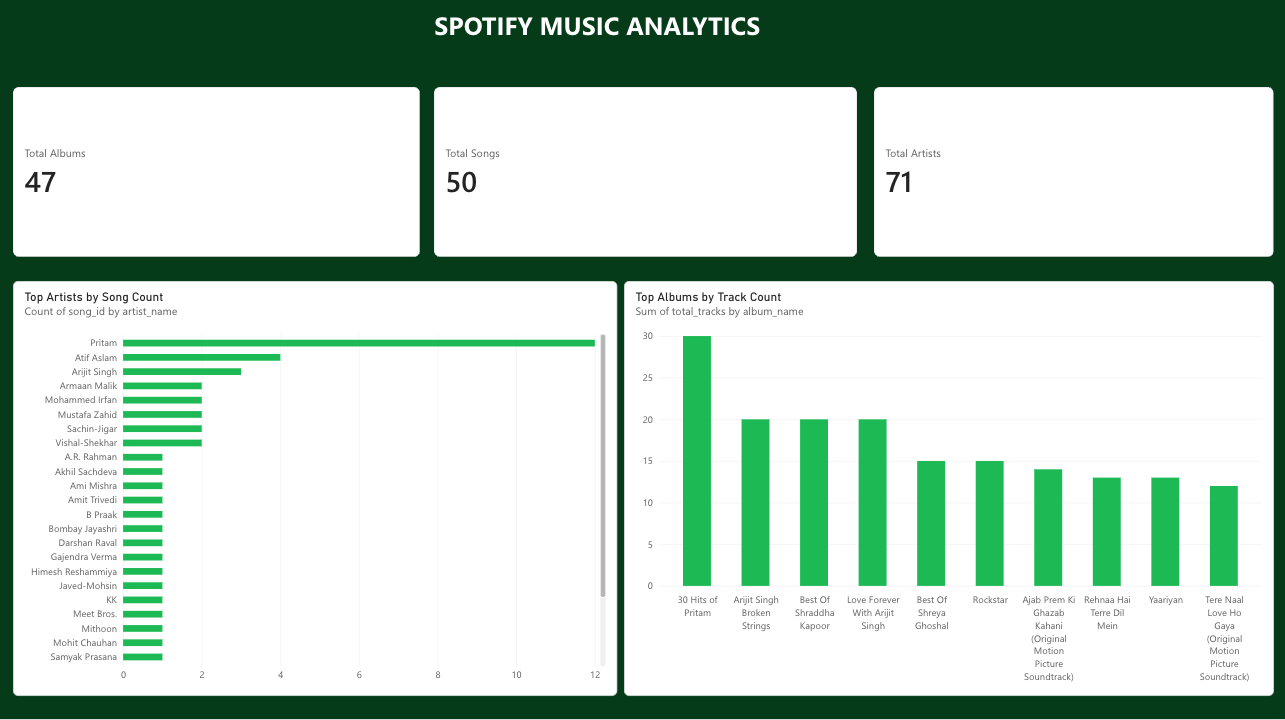

The page's visual inventory and layout, read from the dashboard file:
{"tool":"powerbi","page":{"name":"Page 1","canvas":[1920,1080],"ordinal":0},"visuals":[{"type":"cardVisual","fields":{"Data":["Count(songs.song_id)"]},"box":[650.9,140,630.1,253.2],"z":0},{"type":"cardVisual","fields":{"Data":["Count(albums.album_id)"]},"box":[23.8,140,606.2,253.2],"z":1000},{"type":"cardVisual","fields":{"Data":["Count(artists.artist_id)"]},"box":[1306.3,140,595.8,253.2],"z":2000},{"type":"clusteredBarChart","title":"Top Artists by Song Count","fields":{"Category":["artists.artist_name"],"Y":["CountNonNull(songs.song_id)"]},"box":[23.8,429,899.7,618.2],"z":3000},{"type":"clusteredColumnChart","title":"Top Albums by Track Count","fields":{"Category":["albums.album_name"],"Y":["Sum(albums.total_tracks)"]},"box":[933.9,429,968.2,618.2],"z":4000},{"type":"textbox","box":[150,450,300,150],"z":5000},{"type":"textbox","box":[100,100,300,300],"z":5002},{"type":"textbox","box":[100,100,300,300],"z":5003},{"type":"textbox","box":[569,22.3,579.4,77.5],"z":5004}]}

Visuals, with their boxes in screenshot pixels (x1, y1, x2, y2), scaled from the page's 1920x1080 canvas onto the 1285x720 screenshot:
cardVisual - Count(songs.song_id): box(436, 93, 857, 262)
cardVisual - Count(albums.album_id): box(16, 93, 422, 262)
cardVisual - Count(artists.artist_id): box(874, 93, 1273, 262)
"Top Artists by Song Count" clusteredBarChart: box(16, 286, 618, 698)
"Top Albums by Track Count" clusteredColumnChart: box(625, 286, 1273, 698)
textbox: box(100, 300, 301, 400)
textbox: box(67, 67, 268, 267)
textbox: box(67, 67, 268, 267)
textbox: box(381, 15, 769, 67)
